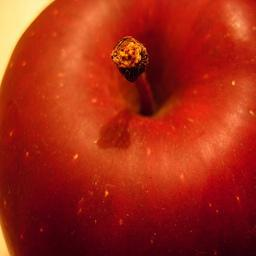apple: (0, 1, 255, 256)
